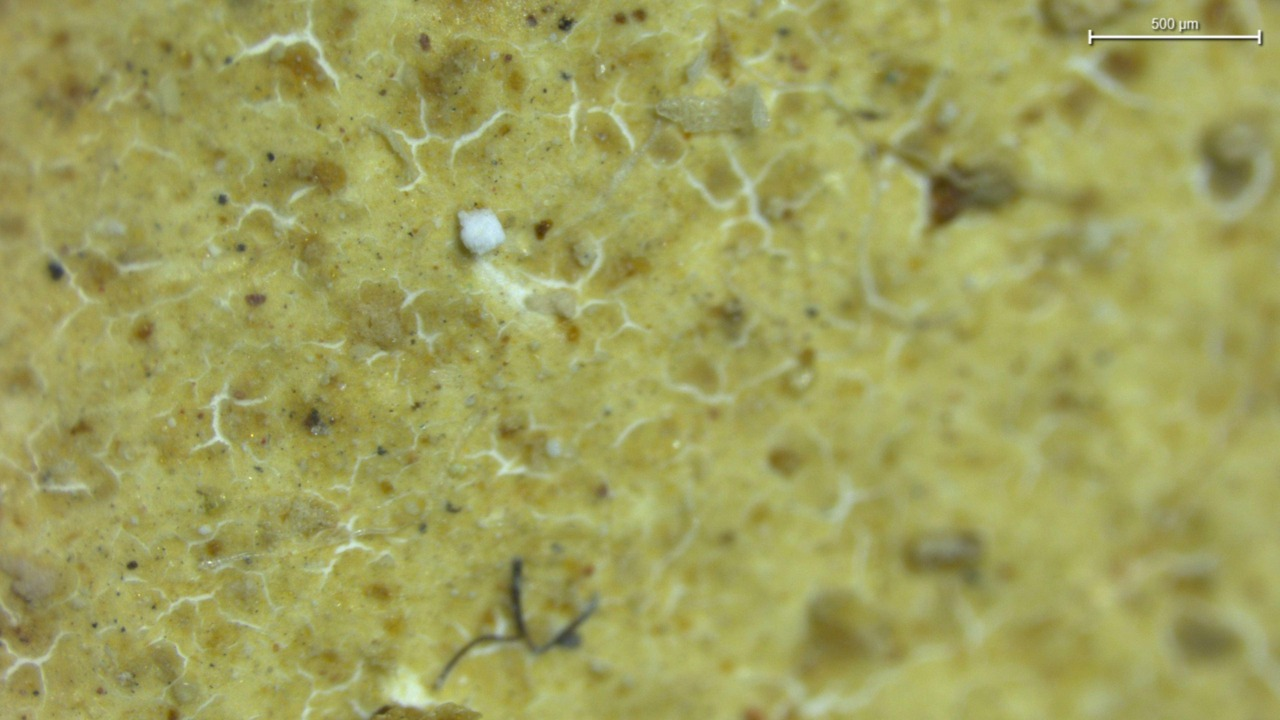microplastic_fragment: (657, 85, 769, 133), (457, 208, 505, 256)
